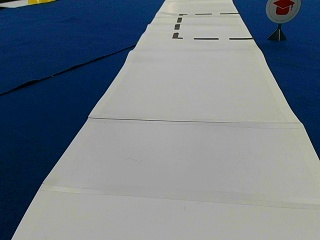school: (265, 1, 299, 23)
